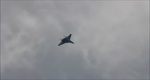maybay_muctieu: (57, 35, 77, 47)
